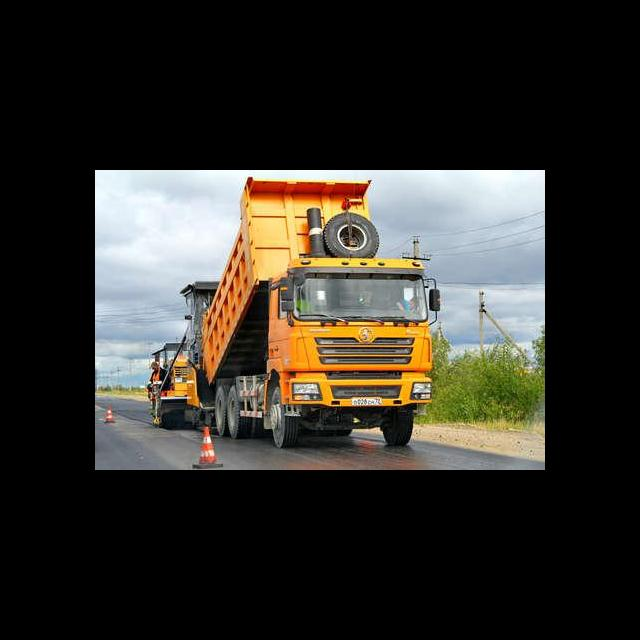Person: (148, 360, 173, 397), (393, 295, 422, 311), (296, 291, 317, 313)
Safety Cone: (193, 427, 224, 468), (105, 405, 116, 423)
Safety Vest: (295, 298, 316, 313), (150, 368, 161, 388), (399, 299, 415, 311)
dump truck: (199, 178, 439, 451)
